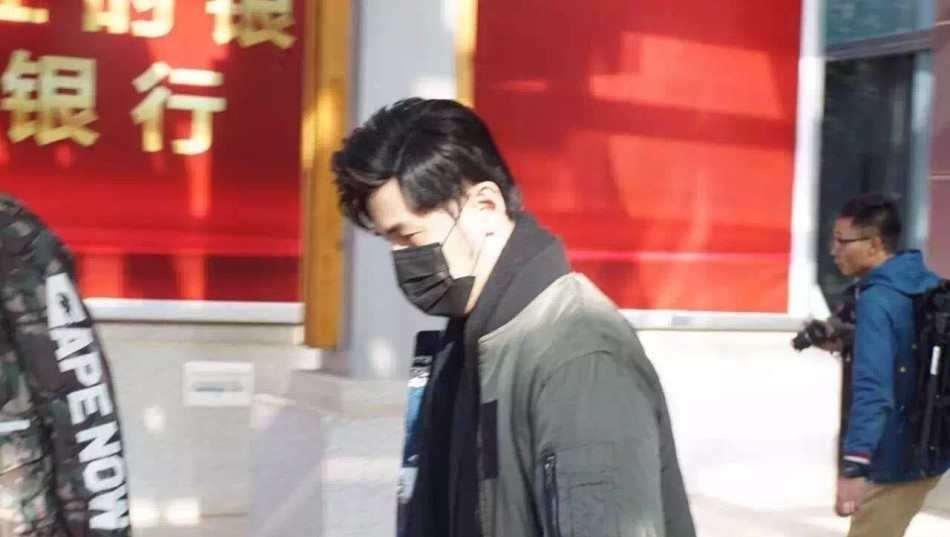face: (826, 219, 879, 274)
face_mask: (366, 186, 481, 316)
